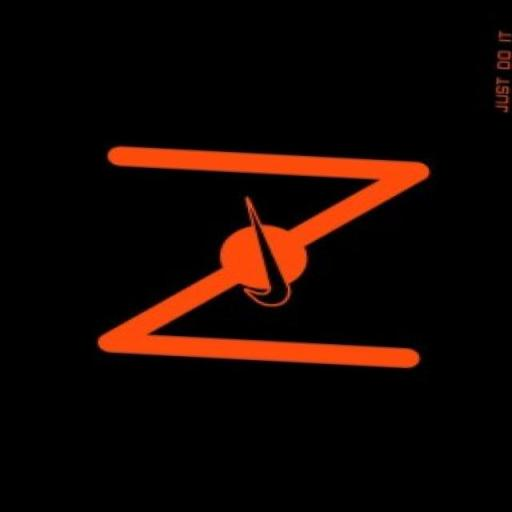Nike: (234, 194, 308, 316)
